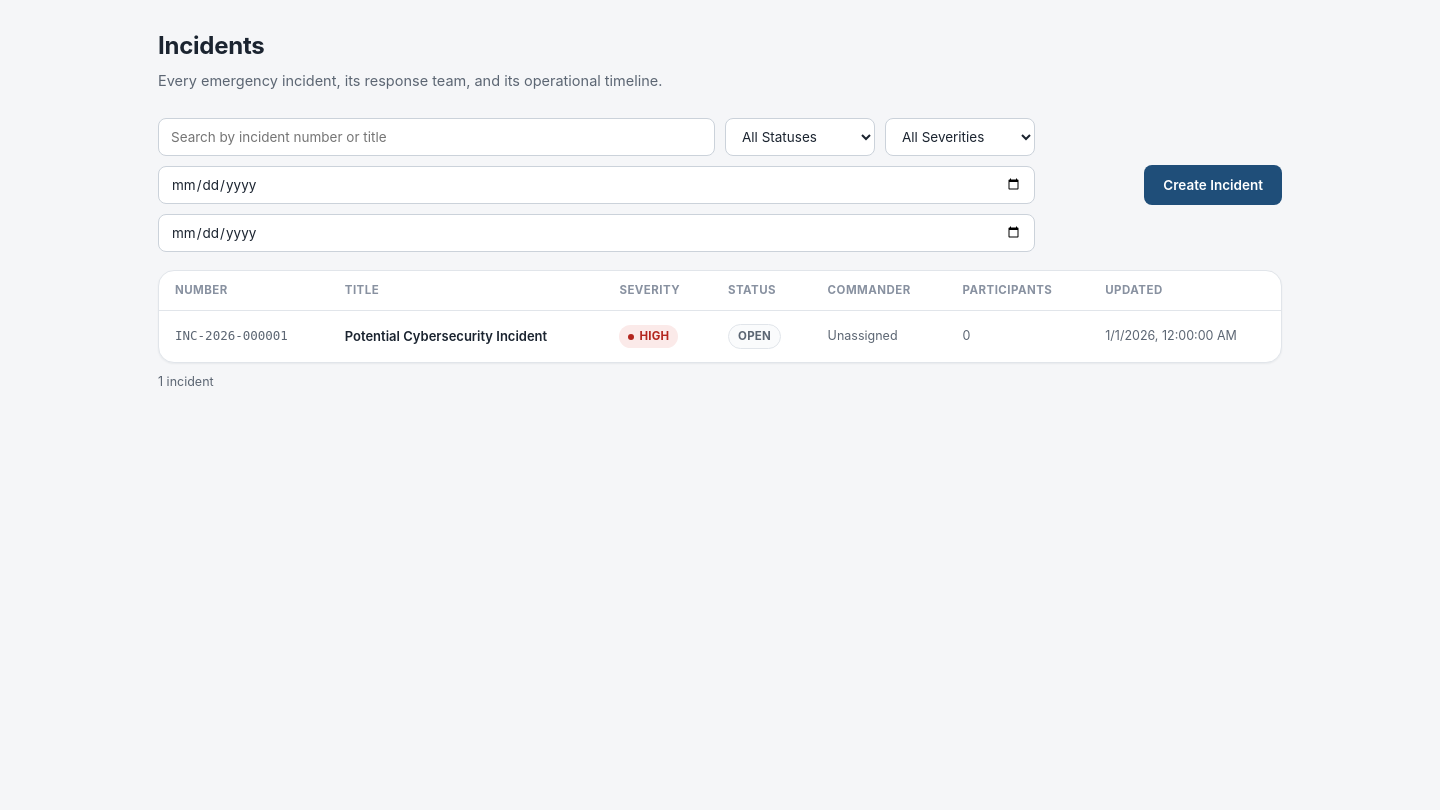
Test: IncidentsPage › shows timeline events
Click the text "Potential Cybersecurity Incident" at [466, 336], box [329,310,603,362]
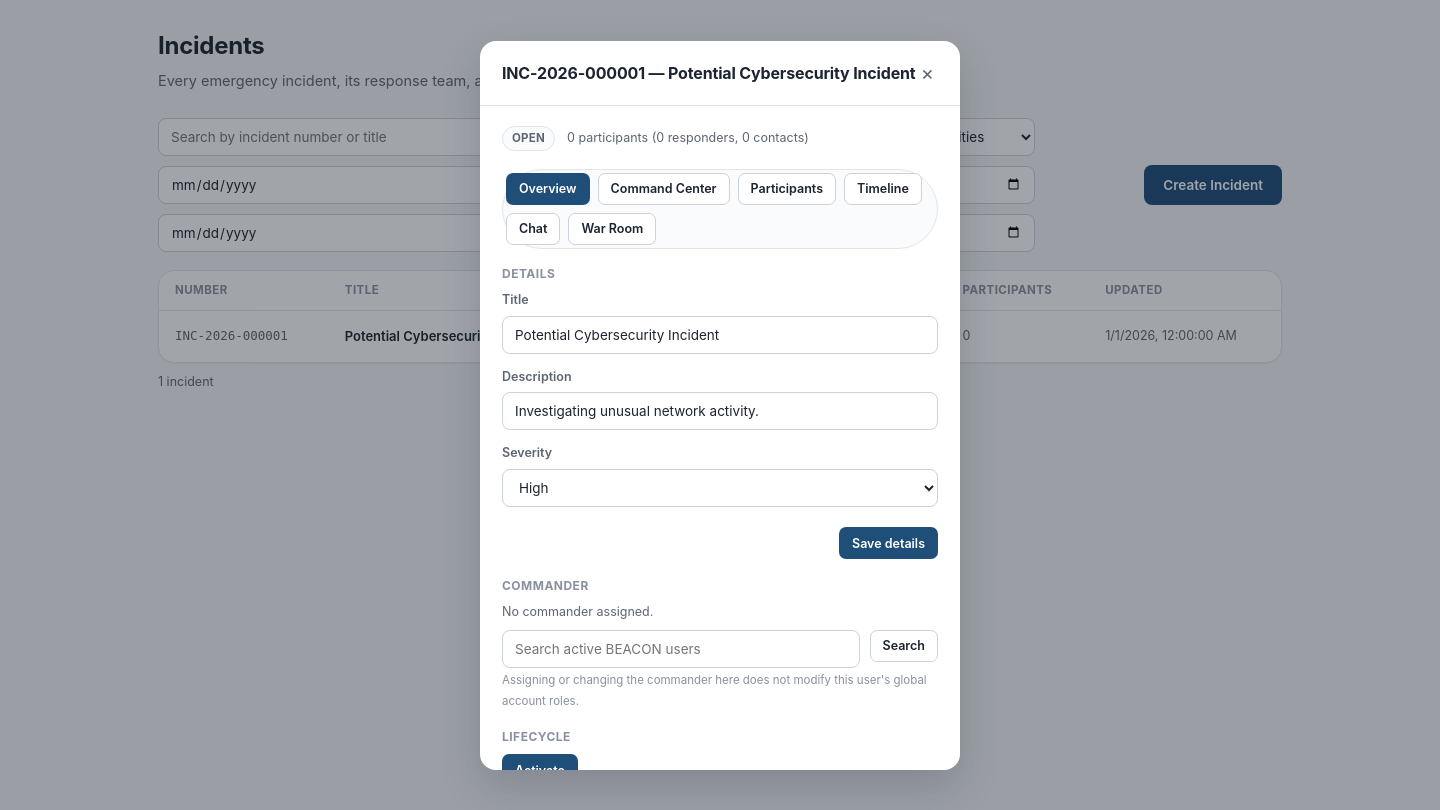
Click the button "Timeline" at [883, 189], box [844,173,922,205]
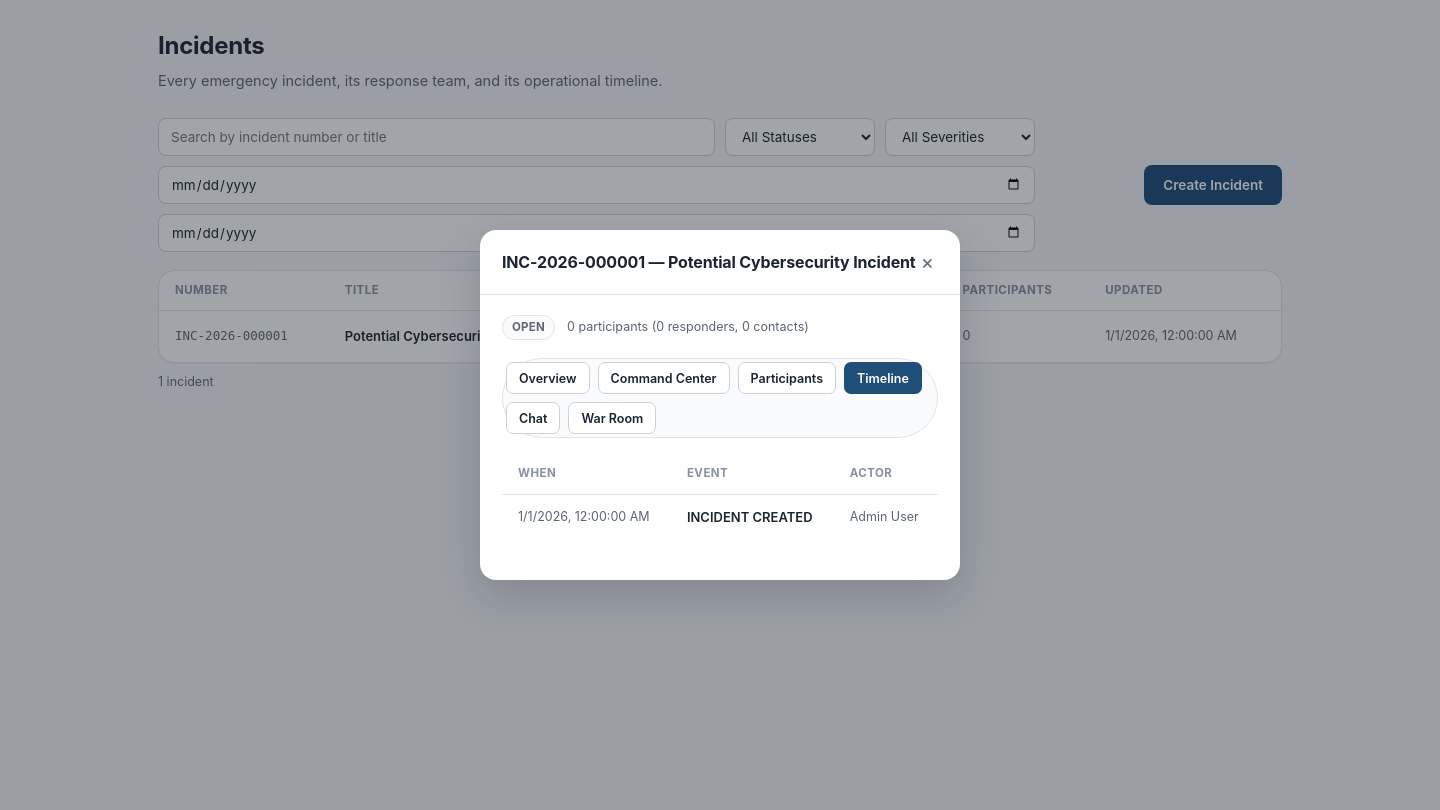
Expected: the text "INCIDENT CREATED" is shown, [671,494,834,540]
